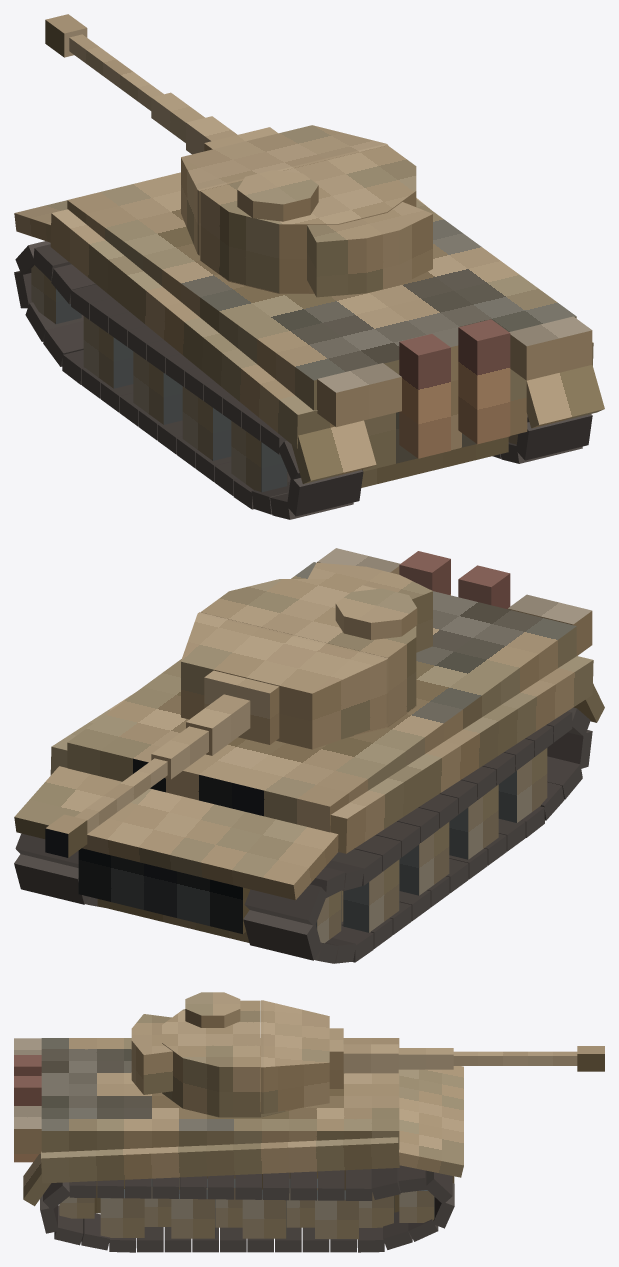
Rendered from TigerH1.fbx.
The picture shows the model from 3 angles, top to bottom: view 1: azimuth 30°, elevation 25°; view 2: azimuth 150°, elevation 25°; view 3: azimuth 270°, elevation 25°; orthographic projection. The views are drawn at different scales.
Visible parts, largest first — view 1: top_block, turret_bone, cylinder, side_l, exhaust_r, exhaust_l, thingy_l, thingy_r, mudflap_l, mudflap_r, panel_back, cylinder_1 (+21 smaller); view 2: top_block, turret_bone, front_armour, side_l, cylinder, panel_front, cylinder_1, roadwheel.002_l, Cube_l.015, roadwheel.004_l, roadwheel.005_l, roadwheel.003_l (+30 smaller); view 3: top_block, side_r, turret_bone, cylinder, front_armour, mid, roadwheel.004_r., roadwheel.005_r., cylinder_1, roadwheel.003_r., roadwheel.002_r., base (+45 smaller).
Part boxes in pixels (bbox=[...]): top_block: bbox=[67, 172, 576, 410]; turret_bone: bbox=[181, 125, 432, 297]; cylinder: bbox=[200, 145, 416, 293]; side_l: bbox=[50, 209, 334, 448]; exhaust_r: bbox=[458, 319, 510, 444]; exhaust_l: bbox=[399, 334, 450, 458]; thingy_l: bbox=[317, 363, 401, 427]; thingy_r: bbox=[509, 316, 592, 380]; mudflap_l: bbox=[292, 420, 376, 483]; mudflap_r: bbox=[526, 365, 604, 428]; panel_back: bbox=[362, 369, 527, 471]; cylinder_1: bbox=[237, 170, 318, 221]; top_block: bbox=[67, 562, 576, 832]; turret_bone: bbox=[181, 562, 432, 749]; front_armour: bbox=[14, 766, 338, 900]; side_l: bbox=[330, 656, 593, 853]; cylinder: bbox=[201, 579, 416, 736]; panel_front: bbox=[78, 848, 250, 933]; cylinder_1: bbox=[335, 588, 417, 639]; roadwheel.002_l: bbox=[343, 859, 399, 932]; Cube_l.015: bbox=[243, 910, 321, 960]; roadwheel.004_l: bbox=[449, 784, 498, 859]; roadwheel.005_l: bbox=[498, 748, 547, 822]; roadwheel.003_l: bbox=[399, 822, 449, 895]; top_block: bbox=[41, 1038, 399, 1152]; side_r: bbox=[41, 1137, 399, 1183]; turret_bone: bbox=[131, 1000, 343, 1113]; cylinder: bbox=[162, 1000, 296, 1117]; front_armour: bbox=[399, 1066, 463, 1177]; mid: bbox=[453, 1051, 577, 1065]; roadwheel.004_r.: bbox=[171, 1189, 215, 1238]; roadwheel.005_r.: bbox=[100, 1189, 144, 1237]; cylinder_1: bbox=[185, 992, 240, 1027]; roadwheel.003_r.: bbox=[242, 1189, 286, 1238]; roadwheel.002_r.: bbox=[315, 1190, 358, 1239]; base: bbox=[343, 1044, 398, 1073].
Size of the model in its own units: 56.25 by 134 by 44.97.
2 materials, 2 textured.
